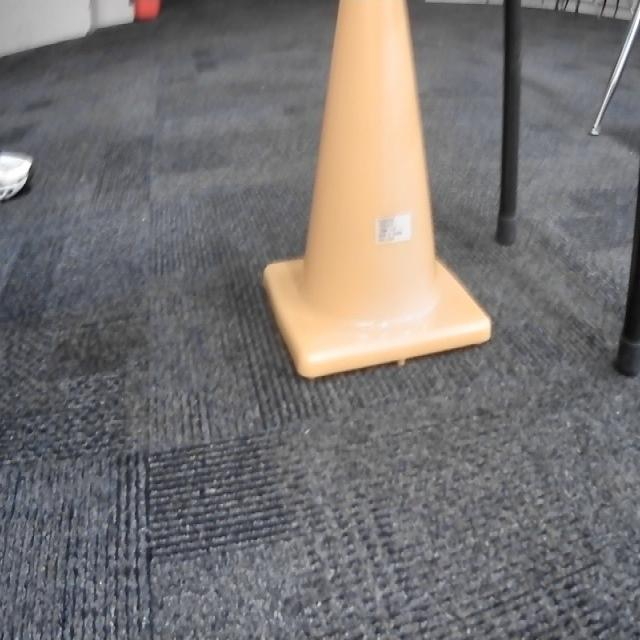cone: (259, 0, 493, 383)
